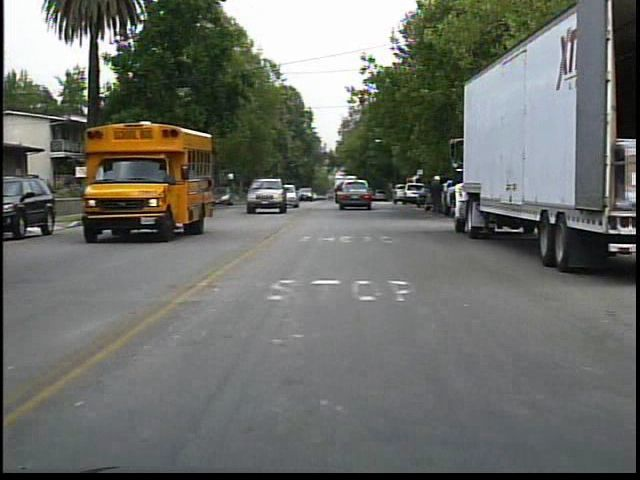person: (423, 171, 446, 219)
